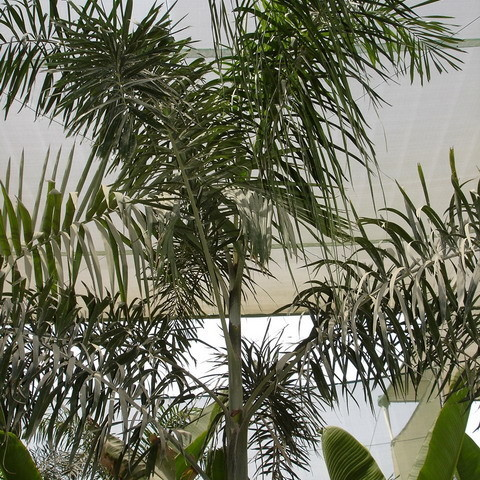obstacle: (50, 49, 451, 458)
